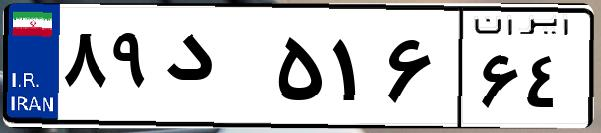1: (330, 28, 385, 110)
4: (525, 38, 570, 115)
5: (270, 28, 330, 110)
6: (385, 28, 445, 110), (475, 38, 525, 113)
8: (57, 26, 110, 100)
9: (110, 28, 158, 98)
د: (158, 20, 270, 120)
